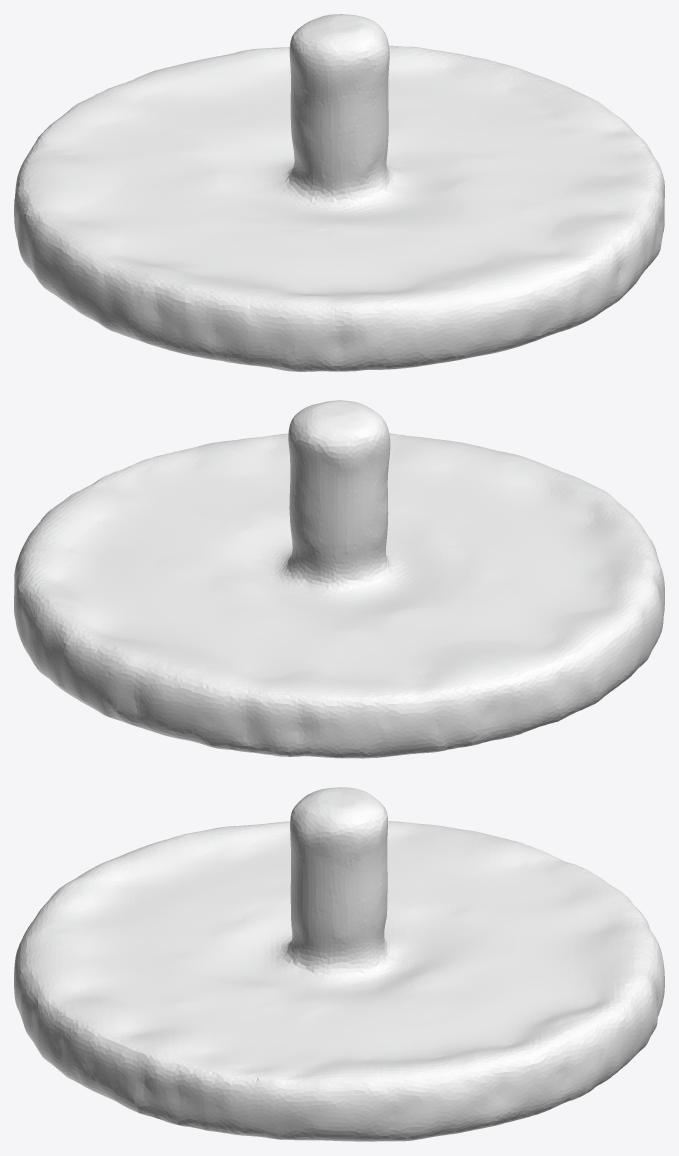
File: base_stand_refined.glb
3 views of the same model, one above another, from view 1: azimuth 30°, elevation 25°; view 2: azimuth 150°, elevation 25°; view 3: azimuth 270°, elevation 25° (orthographic).
Bounding box in the file's own units: 8.09 × 2.98 × 8.09.
Materials: 1 (1 with a texture image).
